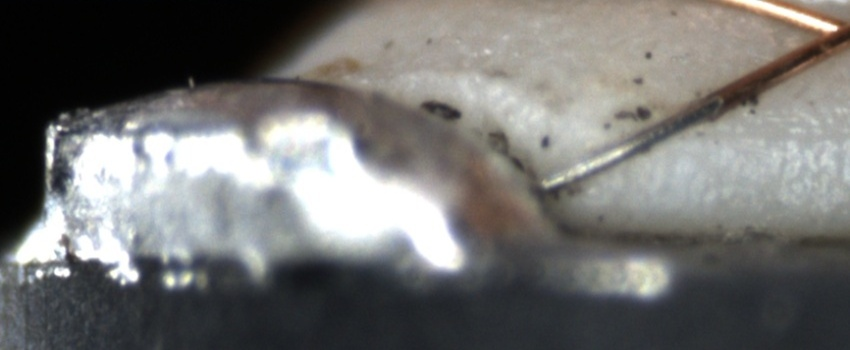CL: (796, 3, 850, 61)
DL: (680, 101, 849, 165)
TS: (537, 95, 725, 191)
